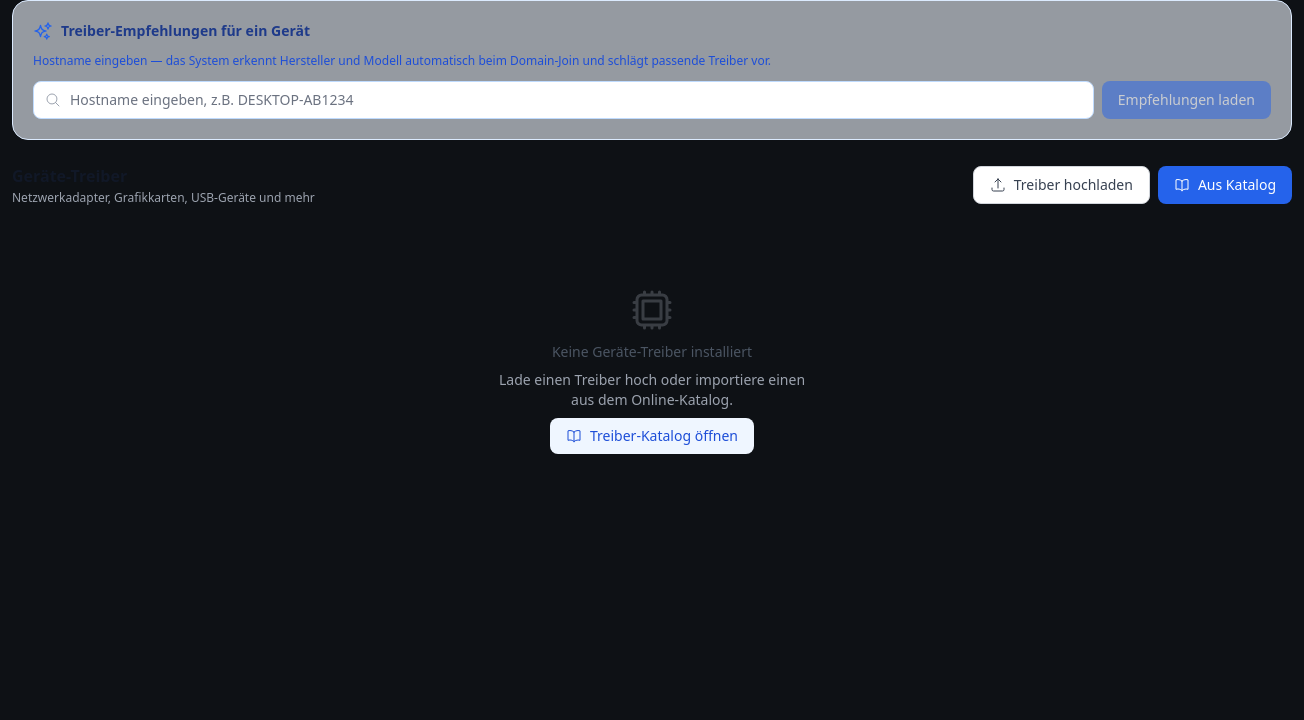
Test case: DeviceDriversTab › recommendation with a downloadUrl renders an enabled Importieren button
Expected: the text "Keine Geräte-Treiber installiert" is shown, top-left (552, 342), bottom-right (752, 362)
Type "host1" into the field with placeholder "Hostname eingeben, z.B. DESKTOP-AB1234". click: {"x": 563, "y": 100}
box: top-left (33, 81), bottom-right (1094, 119)
Then press Enter
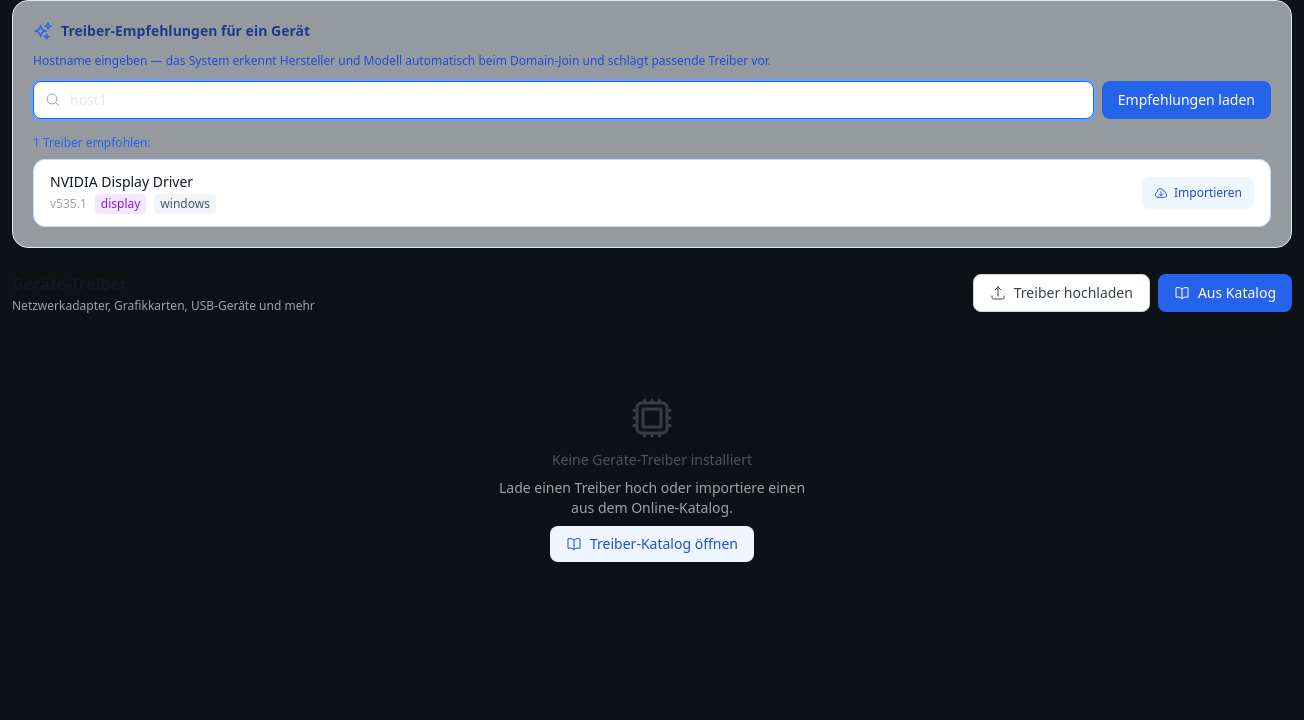
Result: the text "NVIDIA Display Driver" is shown at top-left (50, 172), bottom-right (193, 191)
Result: the button "Importieren" is enabled at top-left (1142, 177), bottom-right (1254, 209)
